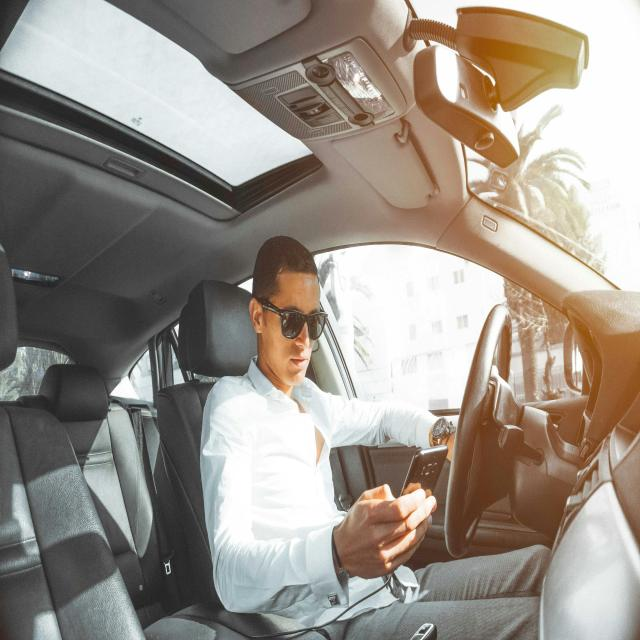sit: (202, 235, 565, 640)
